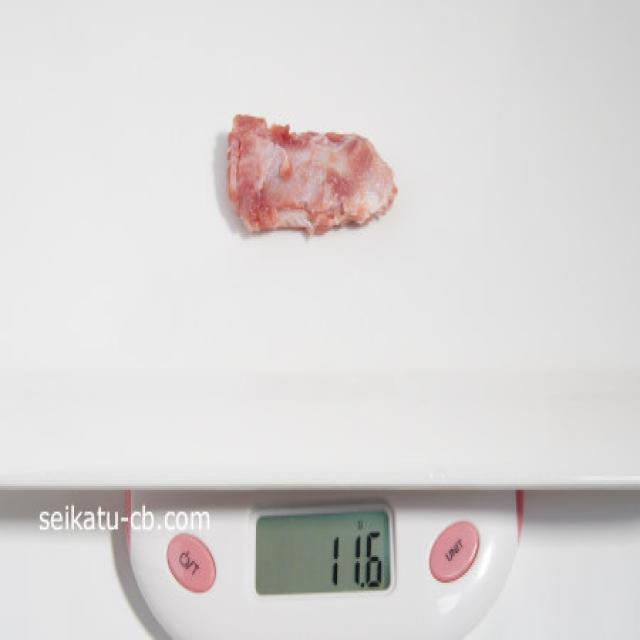NG raw pork,: (218, 113, 402, 245)
